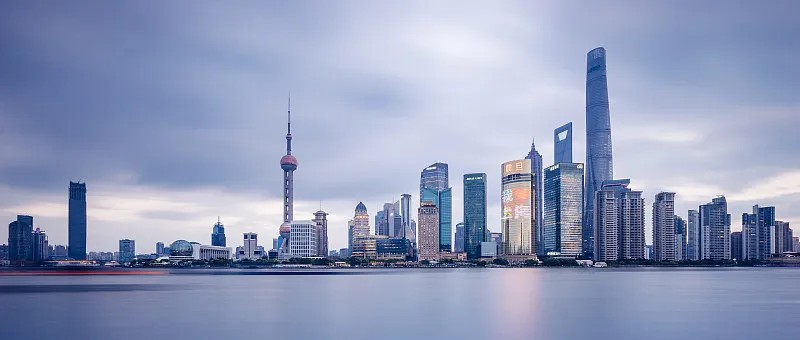Oriental: (280, 92, 298, 251)
